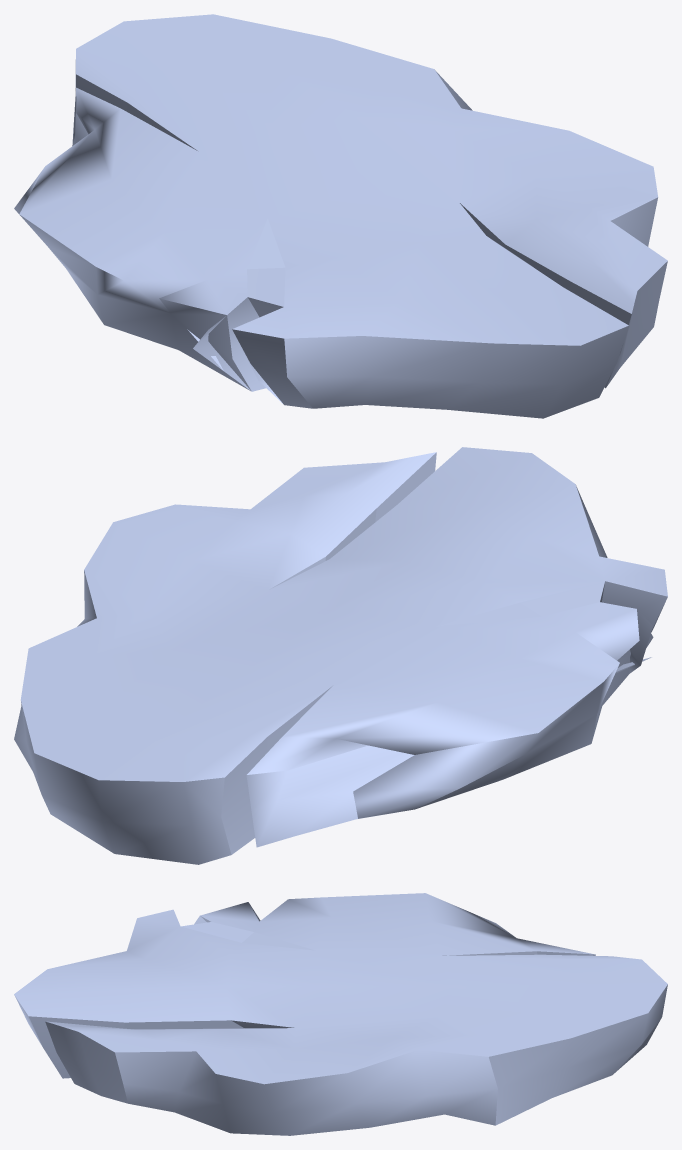
Rendered from FragilePlatform.fbx.
3 views of the same model, one above another, from view 1: azimuth 30°, elevation 25°; view 2: azimuth 150°, elevation 25°; view 3: azimuth 270°, elevation 25° (orthographic). The views are drawn at different scales.
Parts seen in each view (by area): view 1: FragilePlatform_geo; view 2: FragilePlatform_geo; view 3: FragilePlatform_geo.
Boxes of the visible parts, x1,y1,x2,y2 form: FragilePlatform_geo: (14, 14, 667, 418); FragilePlatform_geo: (14, 447, 667, 864); FragilePlatform_geo: (14, 893, 667, 1135).
Size of the model in its own units: 10.73 by 1.89 by 15.58.
